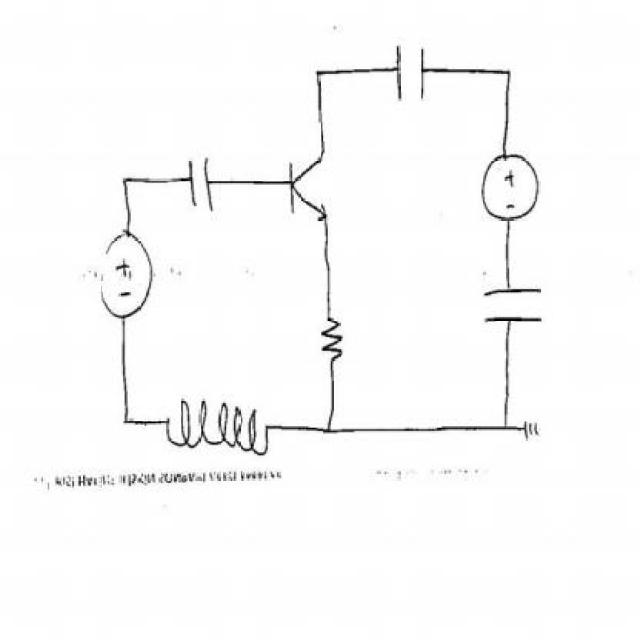capacitor: (476, 276, 556, 337), (388, 31, 432, 111), (185, 150, 219, 217)
ground: (515, 408, 556, 452)
inductor: (168, 383, 274, 460)
resistor: (311, 308, 349, 371)
transistor: (280, 150, 337, 225)
voltage_source: (95, 225, 156, 322), (478, 146, 544, 227)
